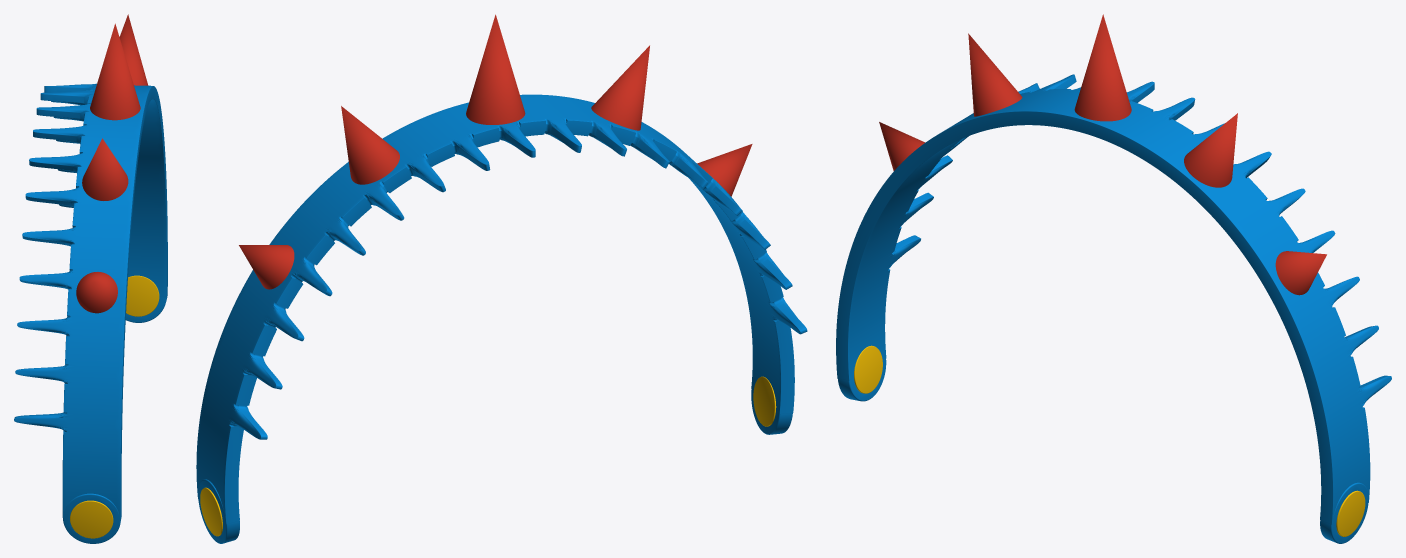
The model's file is five-spike-crown-headband.glb.
3 views of the same model, side by side, from view 1: azimuth 30°, elevation 25°; view 2: azimuth 150°, elevation 25°; view 3: azimuth 270°, elevation 25° (orthographic). The views are drawn at different scales.
Parts seen in each view (by area): view 1: five-spike-crown-headband-part-001, five-spike-crown-headband-part-004, five-spike-crown-headband-part-003, five-spike-crown-headband-part-002, five-spike-crown-headband-part-005; view 2: five-spike-crown-headband-part-001, five-spike-crown-headband-part-004, five-spike-crown-headband-part-005, five-spike-crown-headband-part-003, five-spike-crown-headband-part-006, five-spike-crown-headband-part-002; view 3: five-spike-crown-headband-part-001, five-spike-crown-headband-part-004, five-spike-crown-headband-part-005, five-spike-crown-headband-part-003, five-spike-crown-headband-part-006, five-spike-crown-headband-part-002.
Part boxes in pixels (x1,y1,x2,y2): five-spike-crown-headband-part-001: [14, 83, 167, 543]; five-spike-crown-headband-part-004: [90, 23, 140, 120]; five-spike-crown-headband-part-003: [82, 138, 128, 200]; five-spike-crown-headband-part-002: [76, 272, 117, 313]; five-spike-crown-headband-part-005: [119, 14, 148, 85]; five-spike-crown-headband-part-001: [196, 94, 807, 543]; five-spike-crown-headband-part-004: [466, 14, 525, 124]; five-spike-crown-headband-part-005: [341, 106, 399, 184]; five-spike-crown-headband-part-003: [591, 45, 649, 130]; five-spike-crown-headband-part-006: [239, 245, 294, 289]; five-spike-crown-headband-part-002: [697, 144, 752, 196]; five-spike-crown-headband-part-001: [836, 74, 1391, 543]; five-spike-crown-headband-part-004: [1074, 14, 1131, 121]; five-spike-crown-headband-part-005: [1184, 113, 1237, 187]; five-spike-crown-headband-part-003: [968, 33, 1022, 116]; five-spike-crown-headband-part-006: [1275, 251, 1326, 295]; five-spike-crown-headband-part-002: [879, 122, 925, 170].
Bounding box in the file's own units: 2.37 × 2.71 × 3.
